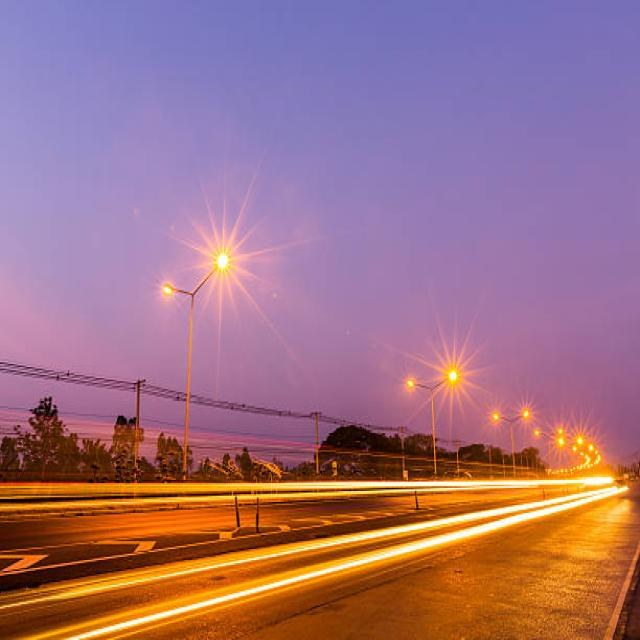acesa: (189, 206, 252, 293), (423, 321, 487, 406), (556, 412, 601, 468), (514, 392, 541, 428)
